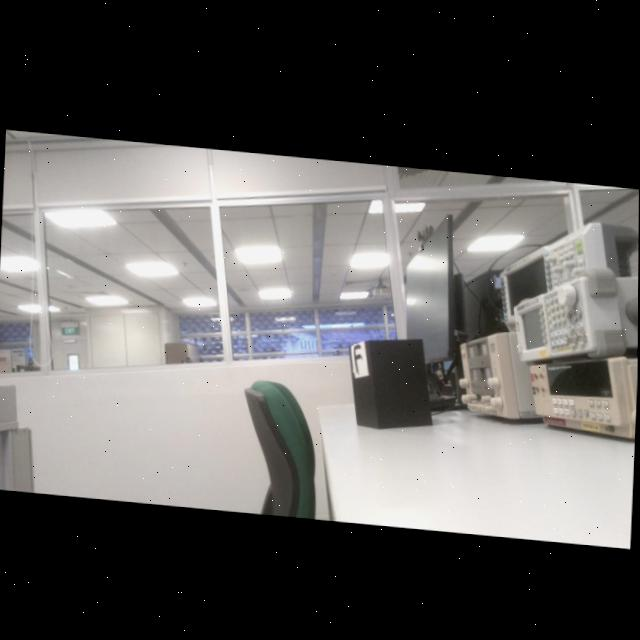F: (354, 340, 362, 368)
